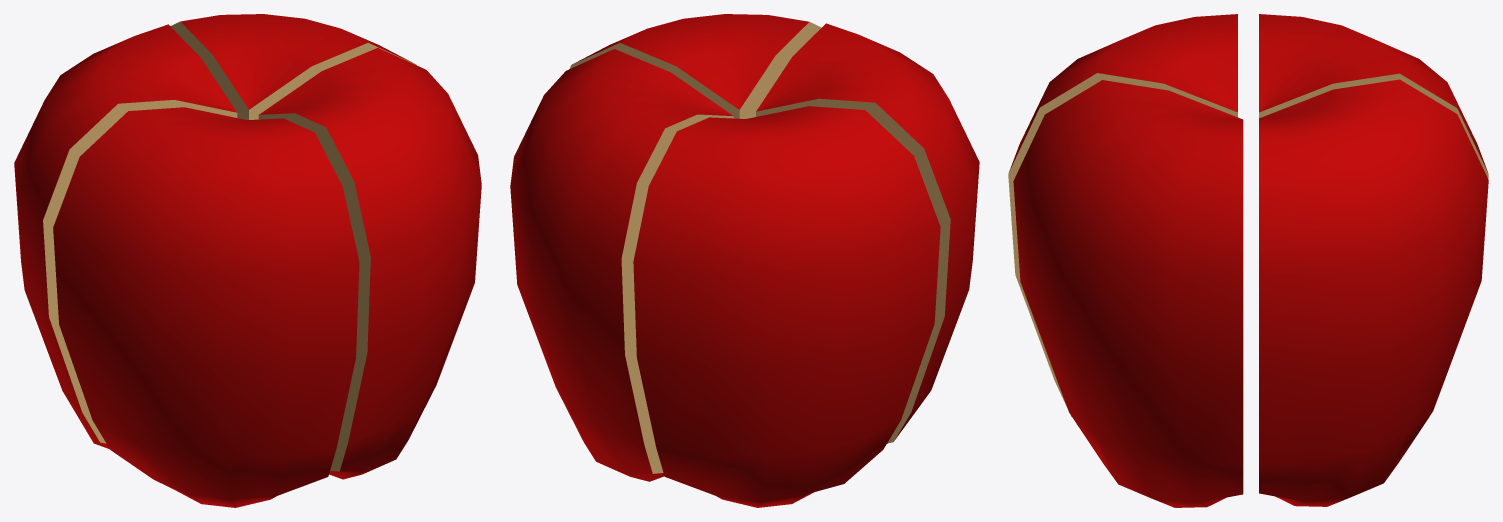
File: mesh_apple_cut02.fbx
3 views of the same model, side by side, from view 1: azimuth 30°, elevation 25°; view 2: azimuth 150°, elevation 25°; view 3: azimuth 270°, elevation 25° (orthographic). The views are drawn at different scales.
Parts seen in each view (by area): view 1: mesh_apple_cut02_slice03, mesh_apple_cut02_slice04, mesh_apple_cut02_slice02, mesh_apple_cut02_slice01; view 2: mesh_apple_cut02_slice02, mesh_apple_cut02_slice01, mesh_apple_cut02_slice03, mesh_apple_cut02_slice04; view 3: mesh_apple_cut02_slice04, mesh_apple_cut02_slice01, mesh_apple_cut02_slice03, mesh_apple_cut02_slice02.
Boxes of the visible parts, left/top/right/bottom form: mesh_apple_cut02_slice03: left=53, top=107, right=359, bottom=507; mesh_apple_cut02_slice04: left=258, top=48, right=481, bottom=479; mesh_apple_cut02_slice02: left=14, top=24, right=237, bottom=448; mesh_apple_cut02_slice01: left=170, top=14, right=416, bottom=119; mesh_apple_cut02_slice02: left=633, top=106, right=940, bottom=507; mesh_apple_cut02_slice01: left=510, top=49, right=733, bottom=481; mesh_apple_cut02_slice03: left=756, top=23, right=979, bottom=443; mesh_apple_cut02_slice04: left=569, top=14, right=821, bottom=118; mesh_apple_cut02_slice04: left=1013, top=80, right=1243, bottom=507; mesh_apple_cut02_slice01: left=1259, top=79, right=1488, bottom=506; mesh_apple_cut02_slice03: left=1008, top=14, right=1237, bottom=416; mesh_apple_cut02_slice02: left=1259, top=14, right=1488, bottom=178.
Bounding box in the file's own units: 0.158 × 0.1419 × 0.1594.
